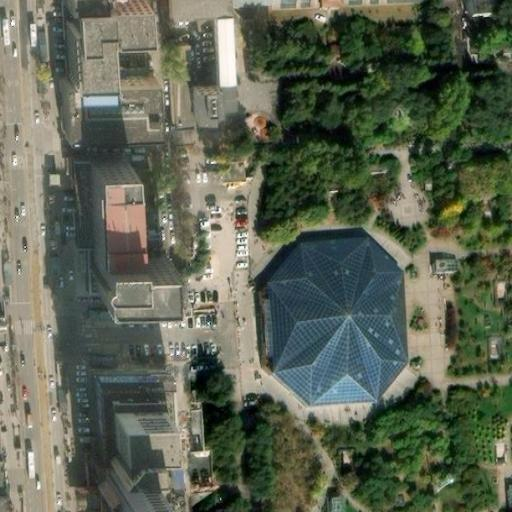building: (262, 239, 404, 409), (60, 94, 159, 151), (62, 0, 107, 96), (75, 166, 118, 254), (91, 389, 148, 452), (76, 250, 146, 295), (89, 449, 137, 512), (89, 357, 161, 394), (172, 86, 219, 125), (198, 16, 218, 86), (432, 252, 459, 273), (326, 491, 345, 512)
